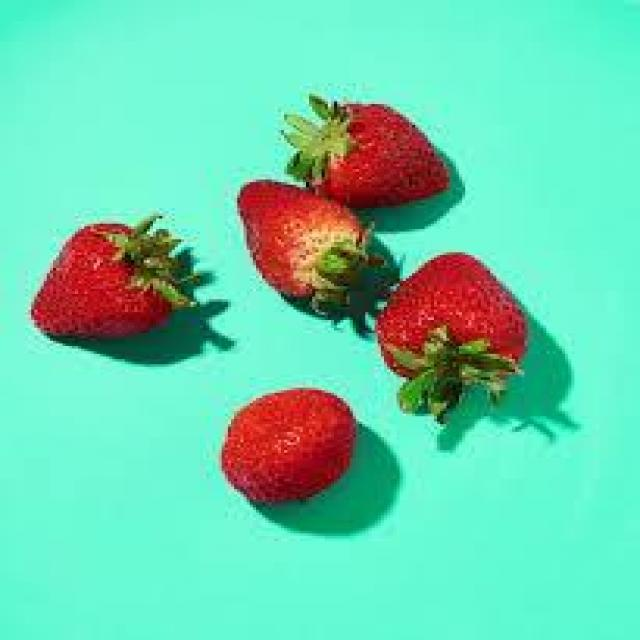strawberry: (374, 255, 528, 406), (234, 180, 384, 307), (281, 94, 456, 200), (34, 224, 188, 343), (225, 390, 353, 508)
